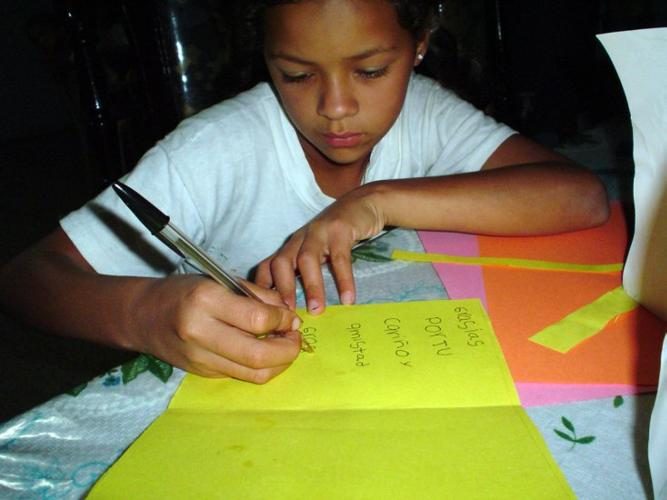person: (14, 3, 614, 387)
